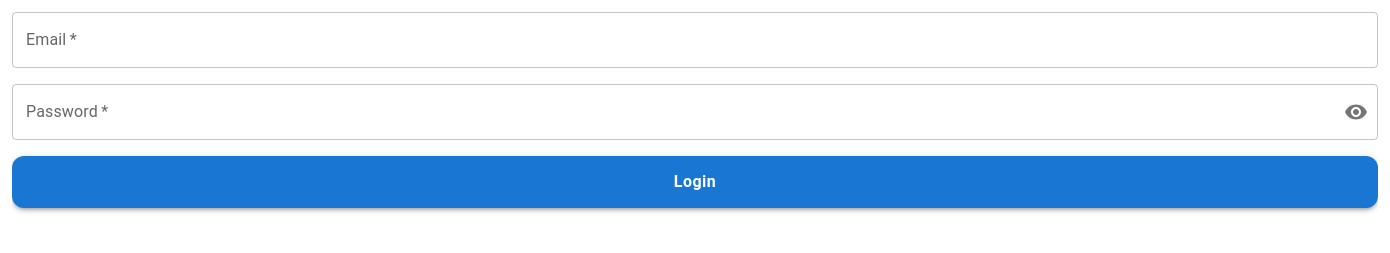
Login and Register form validation › should show error for invalid email in login
Type "invalid-email" into the field labelled "Email *" at {"x": 695, "y": 40}, box left=12, top=12, right=1378, bottom=68
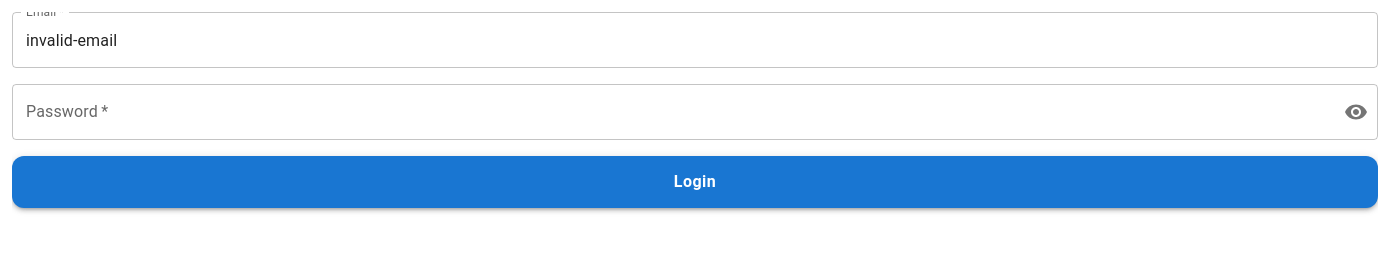
Leave the field labelled "Email *", box left=12, top=12, right=1378, bottom=68
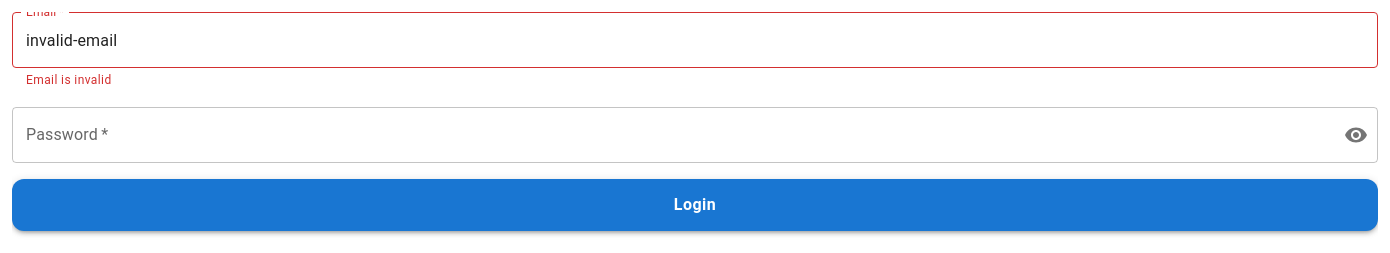
Check: the text "Email is invalid" is shown, box left=26, top=73, right=112, bottom=87
